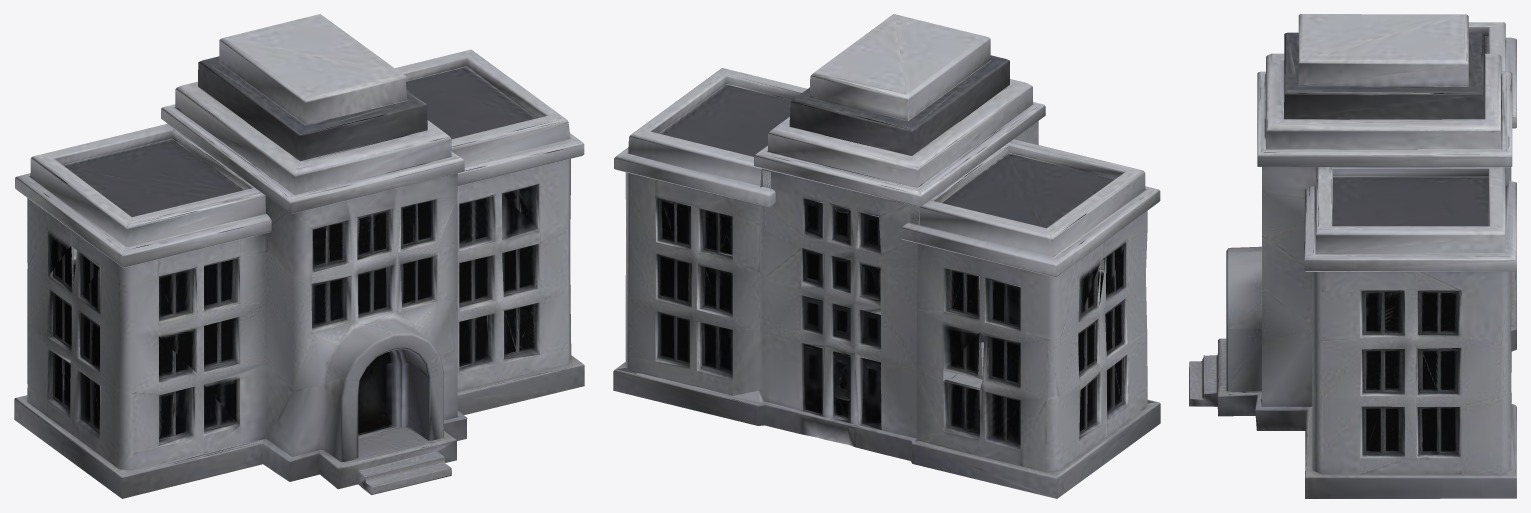
Rendered from 32-university-building.glb.
The picture shows the model from 3 angles, left to right: view 1: azimuth 30°, elevation 25°; view 2: azimuth 150°, elevation 25°; view 3: azimuth 270°, elevation 25°; orthographic projection. The views are drawn at different scales.
Parts seen in each view (by area): view 1: geometry_0; view 2: geometry_0; view 3: geometry_0.
Boxes of the visible parts, x1,y1,x2,y2 form: geometry_0: (14, 14, 584, 498); geometry_0: (613, 14, 1160, 498); geometry_0: (1189, 14, 1516, 498).
Size of the model in its own units: 0.9497 by 0.7022 by 0.5933.
Materials: 1 (1 with a texture image).
